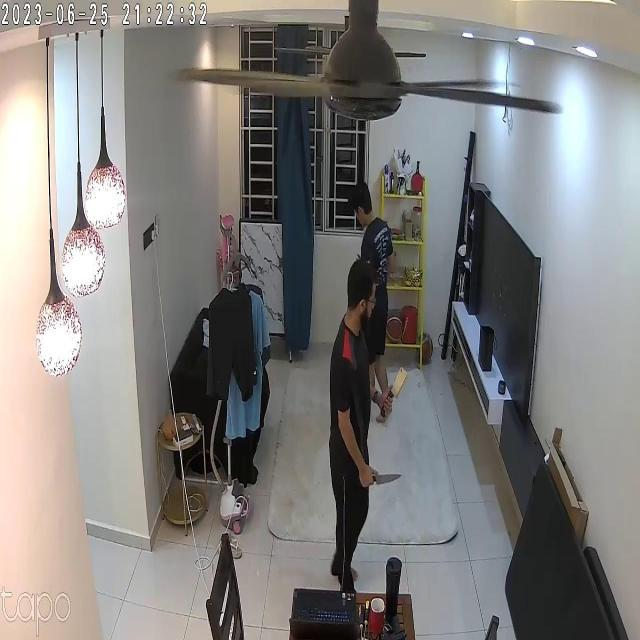Knife: (385, 352, 418, 426), (364, 459, 406, 496)
